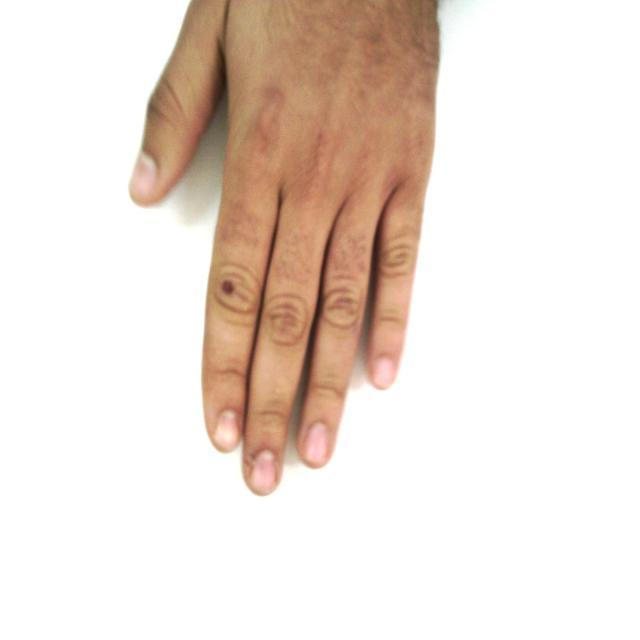Fingernail: (133, 154, 158, 198), (252, 452, 276, 493), (305, 424, 328, 463), (215, 412, 238, 448), (374, 358, 394, 387)
